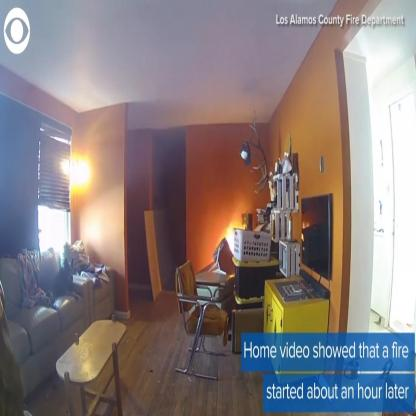fire: (223, 217, 249, 254)
